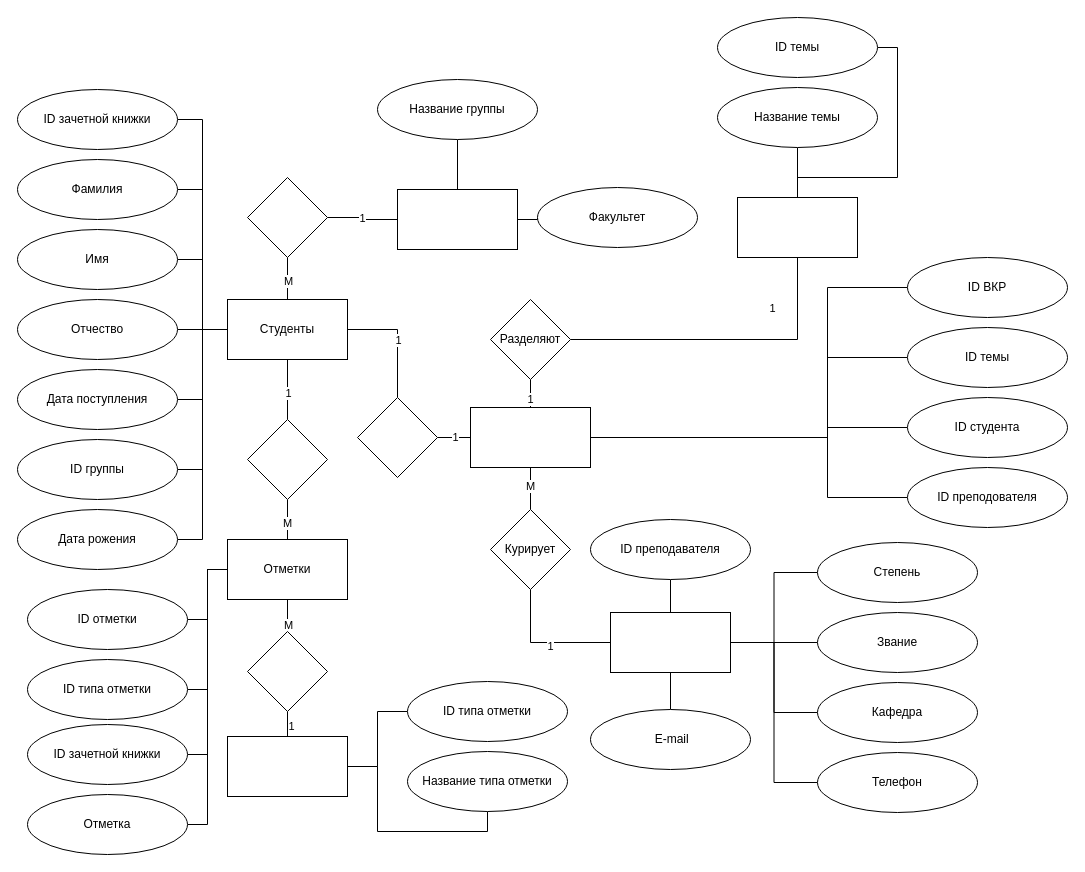
The diagram is 1085 pixels wide and 872 high, and some of its shapes have lost their labels. Each missing label, with the centre of its shape:
Выполняет: point (397, 437)
Выпускные квалификационные работы: point (530, 437)
Группы: point (457, 219)
находяться: point (287, 217)
Преподаватели: point (670, 642)
Разделяются: point (287, 671)
Ставятся: point (287, 459)
Темы: point (797, 227)
Типы отметок: point (287, 766)
